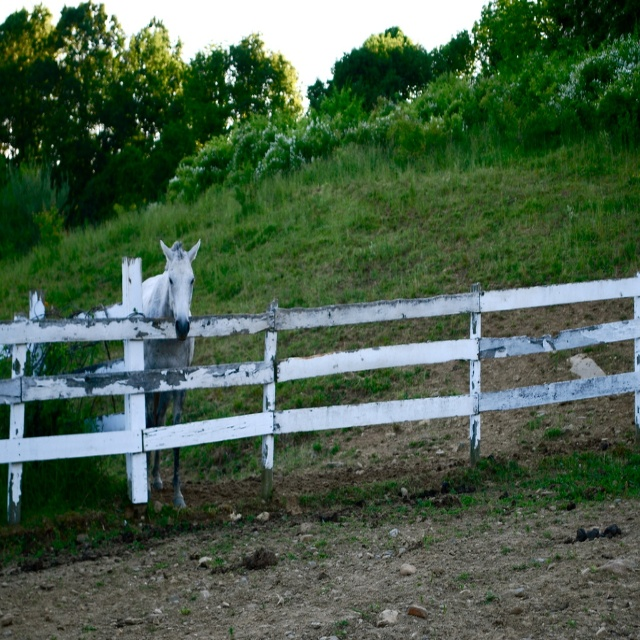Horse: (143, 239, 201, 508)
